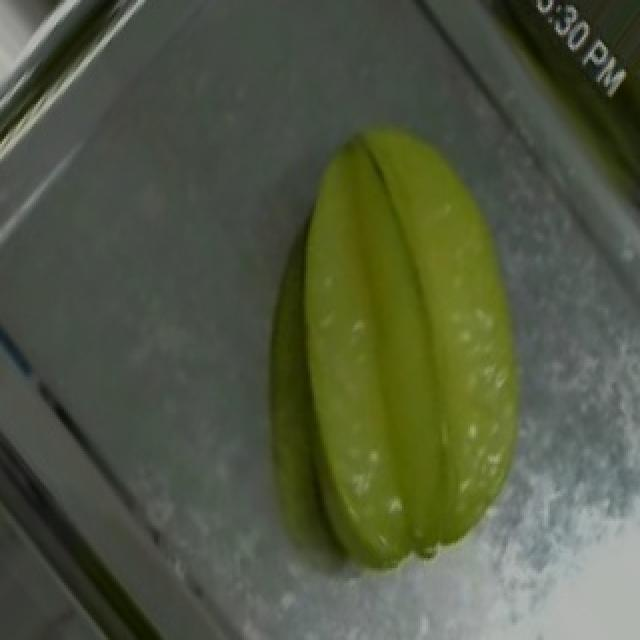fruit: (232, 80, 612, 554)
